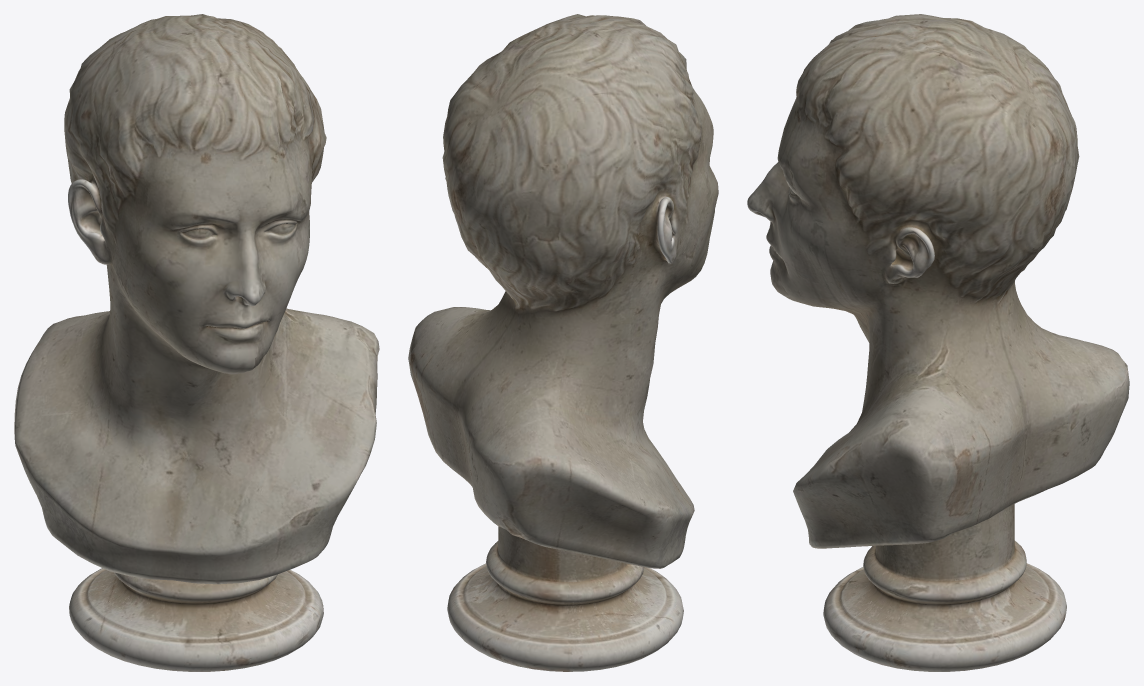
The model's file is marble_bust_01.glb.
The picture shows the model from 3 angles, left to right: view 1: azimuth 30°, elevation 25°; view 2: azimuth 150°, elevation 25°; view 3: azimuth 270°, elevation 25°; orthographic projection. The views are drawn at different scales.
Visible parts, largest first — view 1: marble_bust_01_mesh; view 2: marble_bust_01_mesh; view 3: marble_bust_01_mesh.
Part boxes in pixels (x1,y1,x2,y2): marble_bust_01_mesh: (14,14,379,671); marble_bust_01_mesh: (408,14,718,671); marble_bust_01_mesh: (747,14,1129,671).
Size of the model in its own units: 0.2717 by 0.5149 by 0.2997.
1 material, 1 textured.
